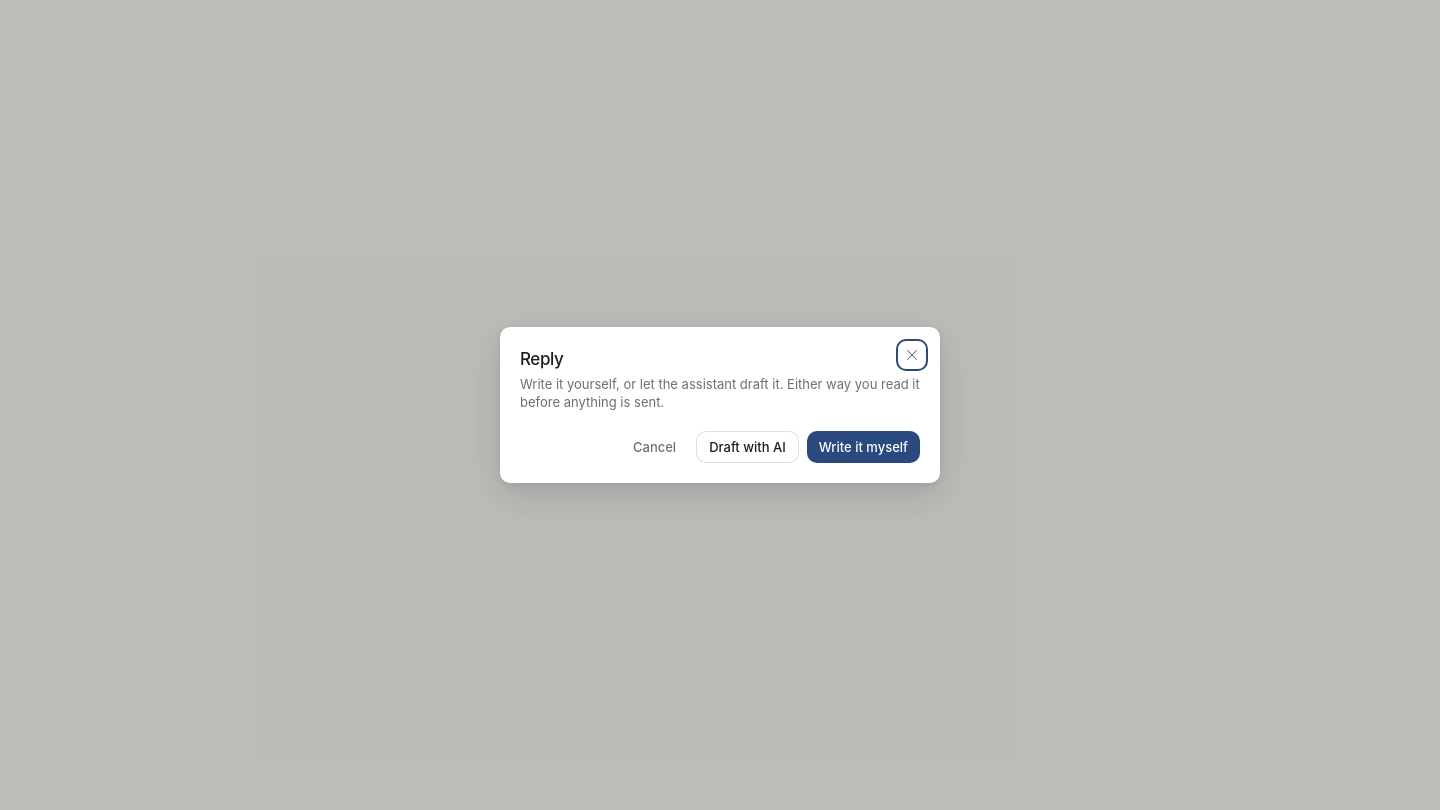
Test: ReplyComposer › asks "Draft anyway" on a suspicious email and shows a refusal in place
Click the button "Draft with AI". click: (747, 447)
box: [696,431,799,463]
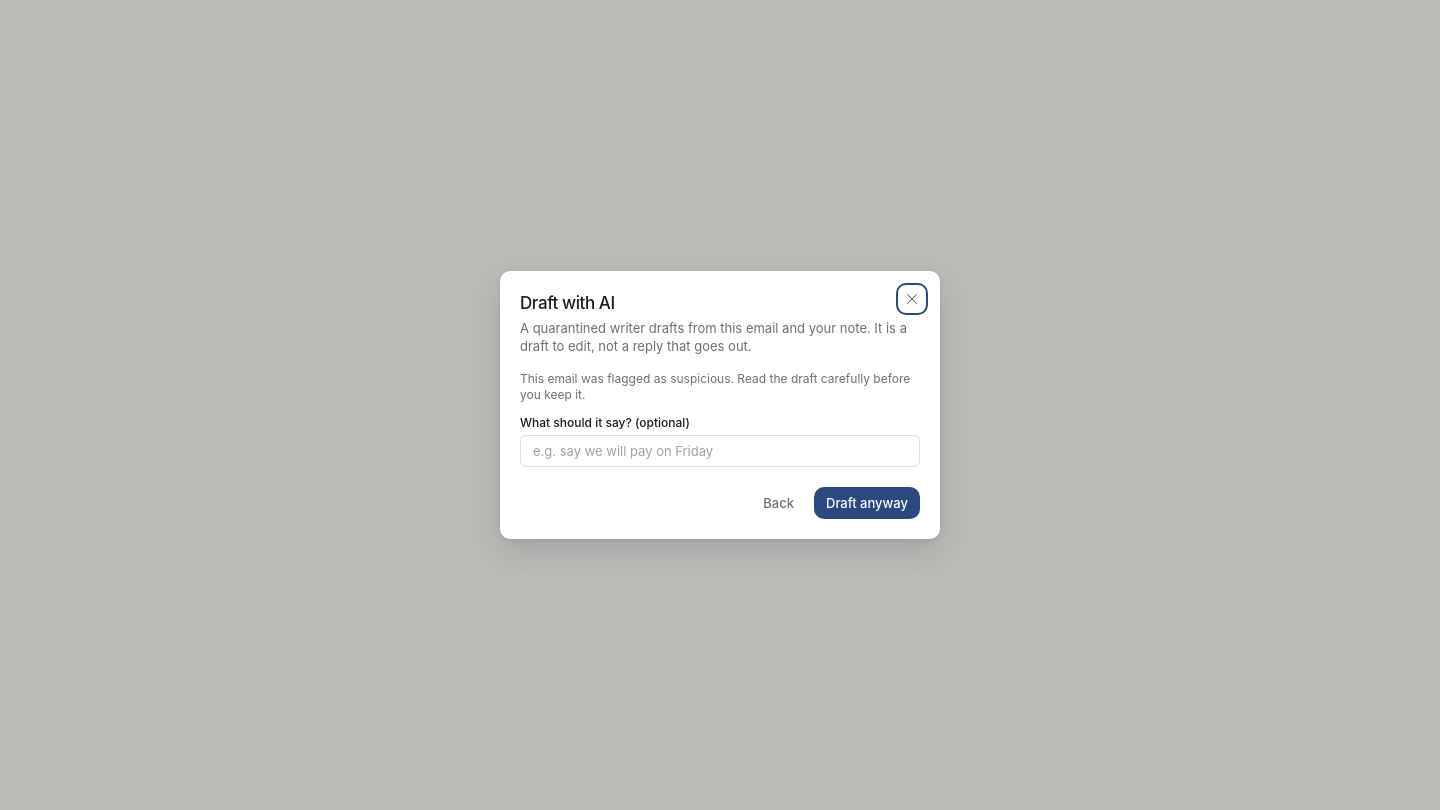
Expected: the text "flagged as suspicious" is shown, [520,371,910,402]
Click the button "Draft anyway". click: (867, 503)
box: [814,487,920,519]
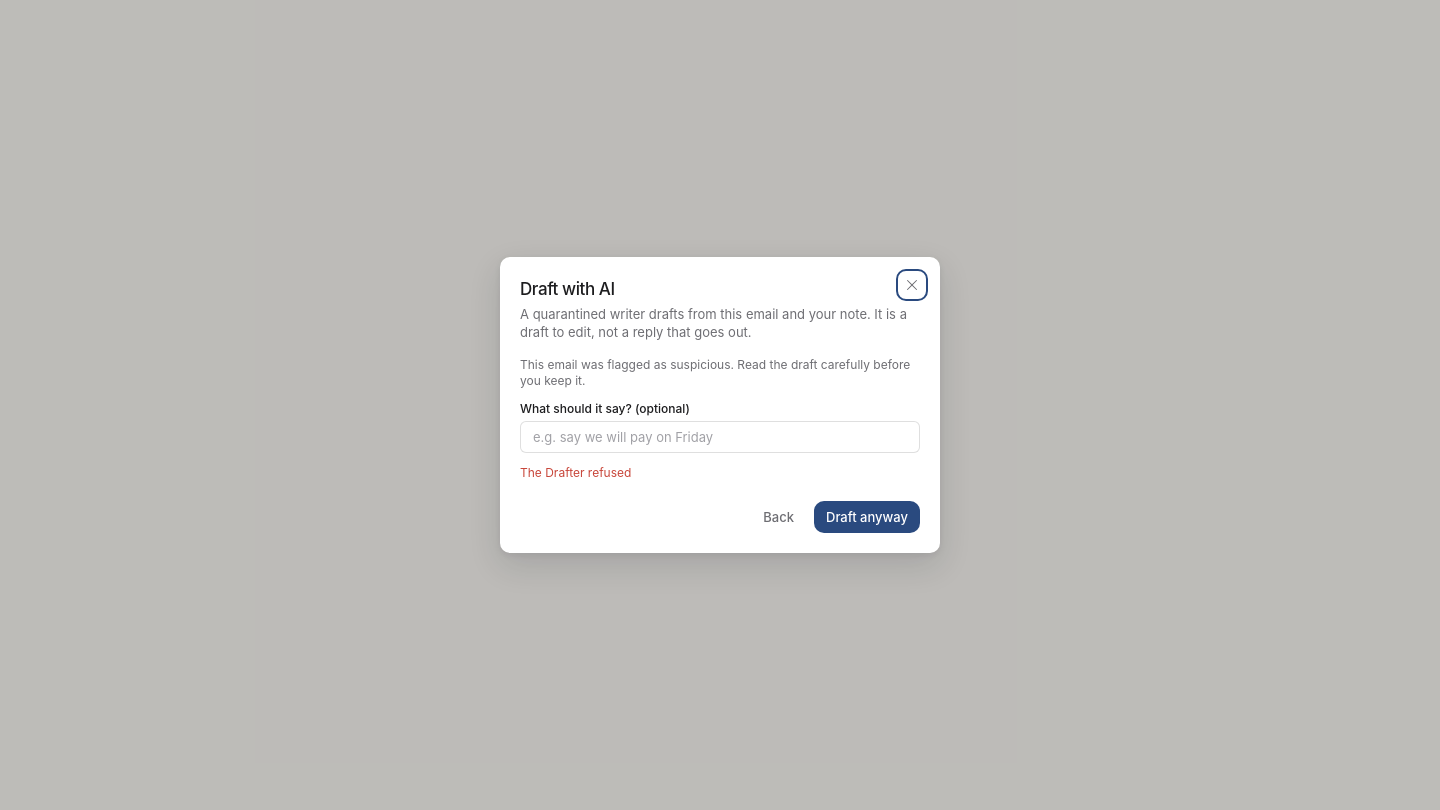
Expected: the message shows "refused", [520,465,631,480]
